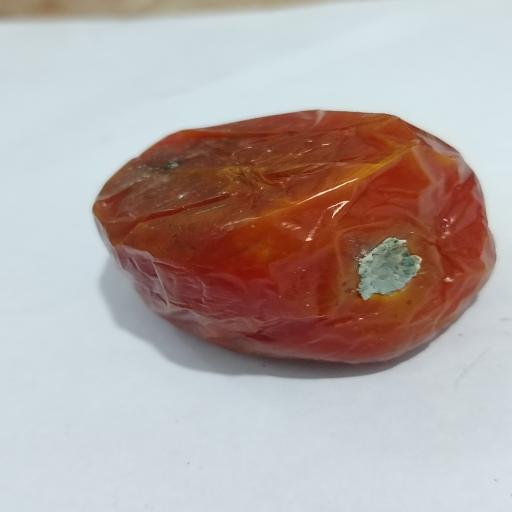spoiled: (94, 111, 495, 363)
